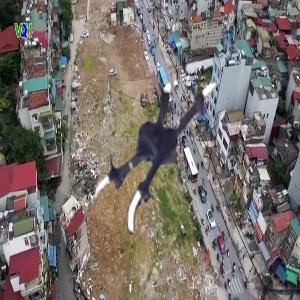drone: (84, 74, 255, 245)
